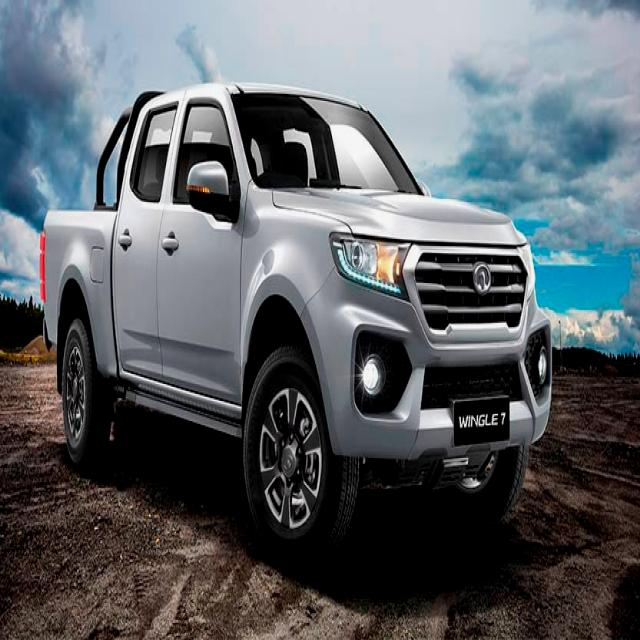CMT: (38, 76, 550, 567)
